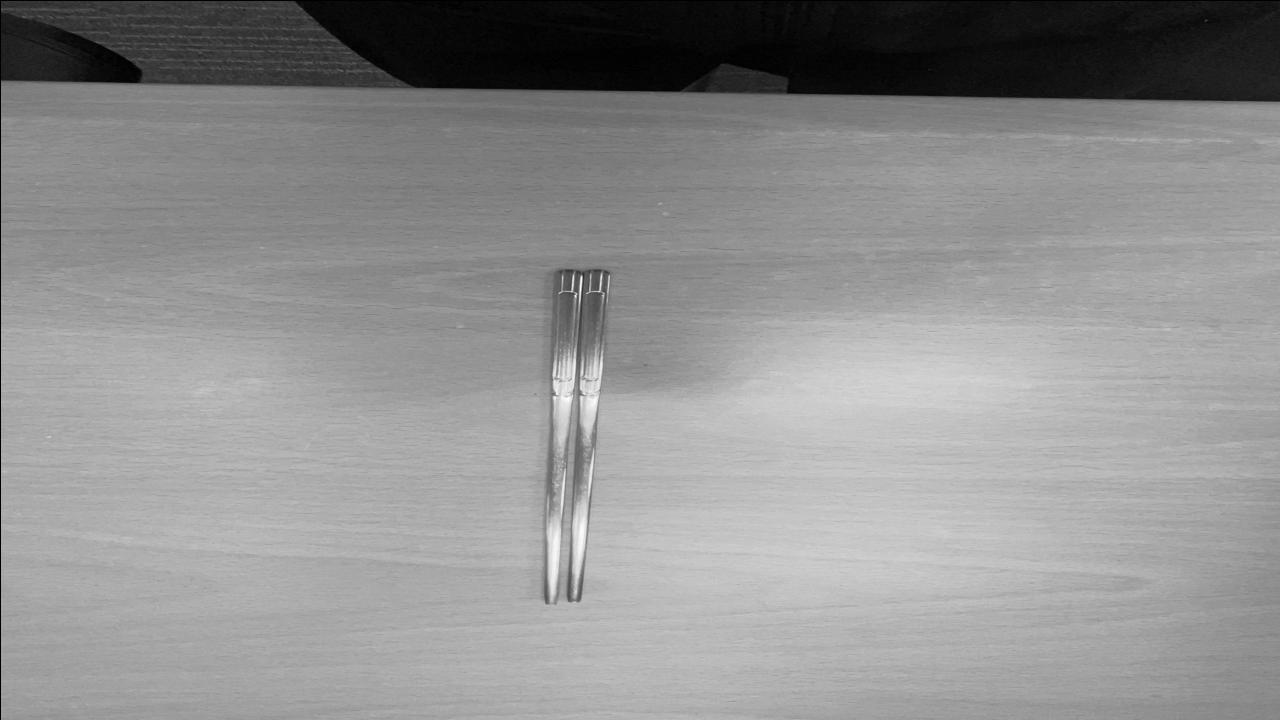chopstick: (540, 262, 612, 608)
